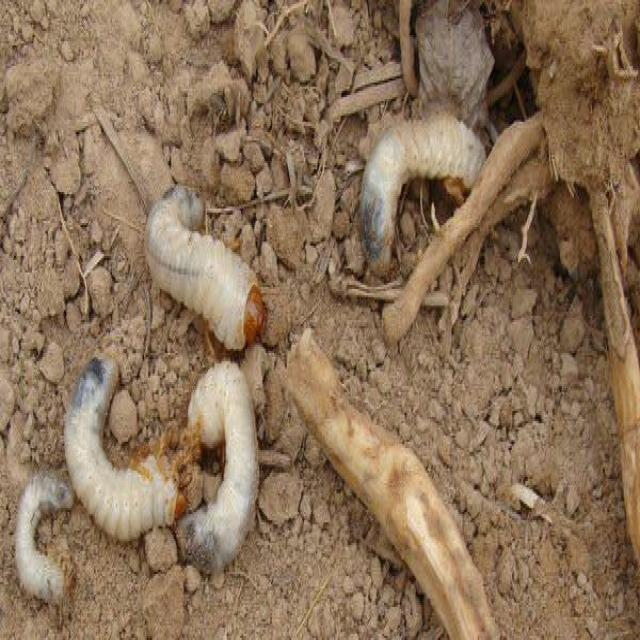Grub-Adult-: (137, 172, 276, 352), (58, 354, 192, 540), (351, 114, 494, 274), (174, 351, 264, 587), (11, 465, 73, 605)
